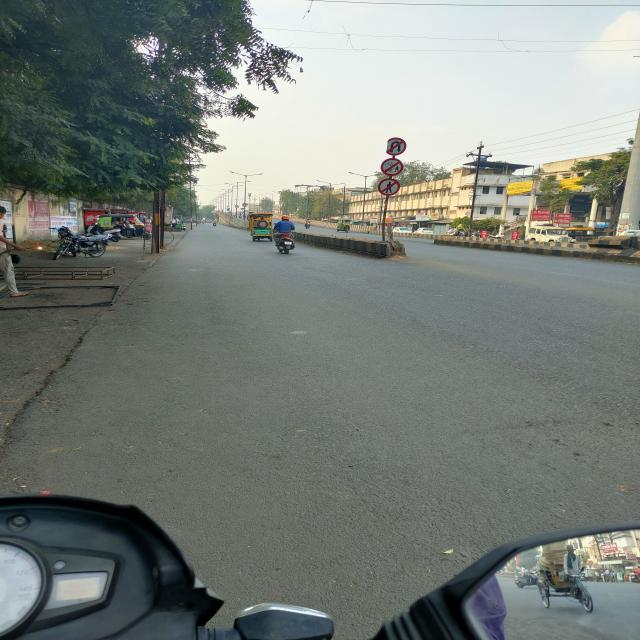railway_crossing: (381, 158, 403, 176)
